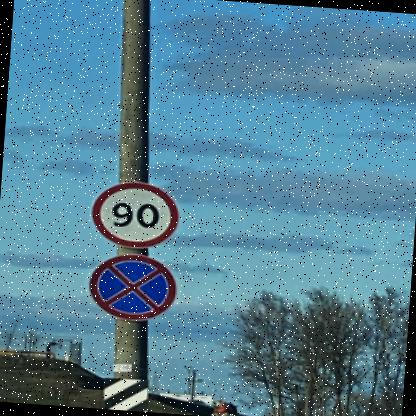speedlimit: (88, 179, 180, 250)
